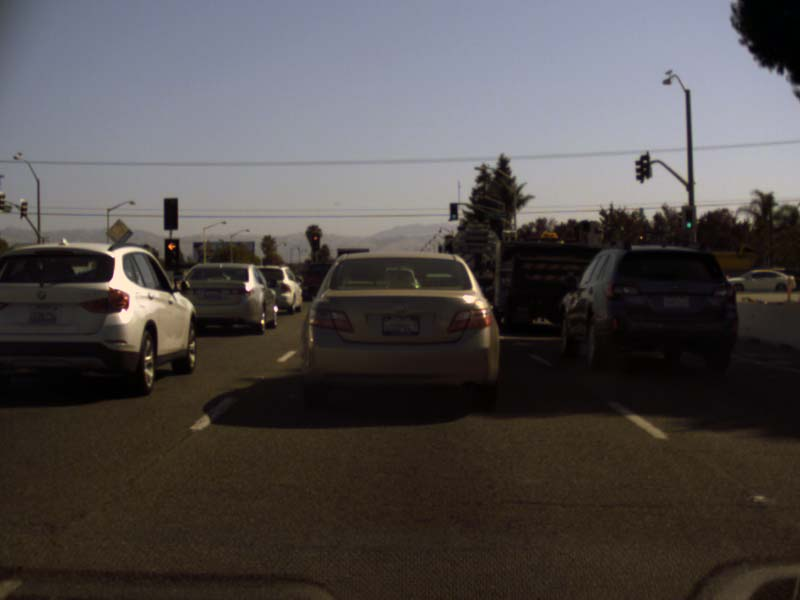Green: (685, 210, 691, 228), (450, 203, 456, 219)
Red: (164, 240, 177, 269), (312, 235, 318, 249)
